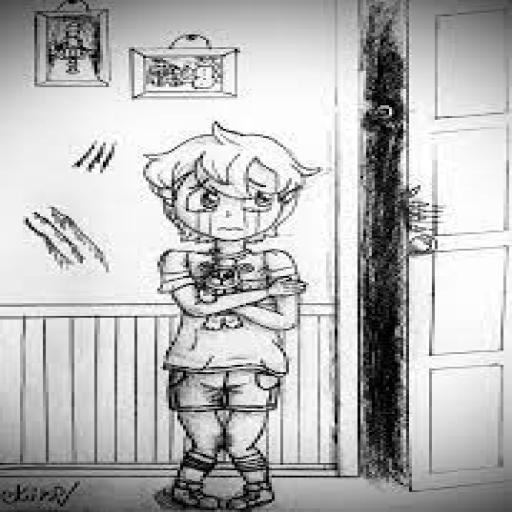person: (121, 123, 331, 510)
